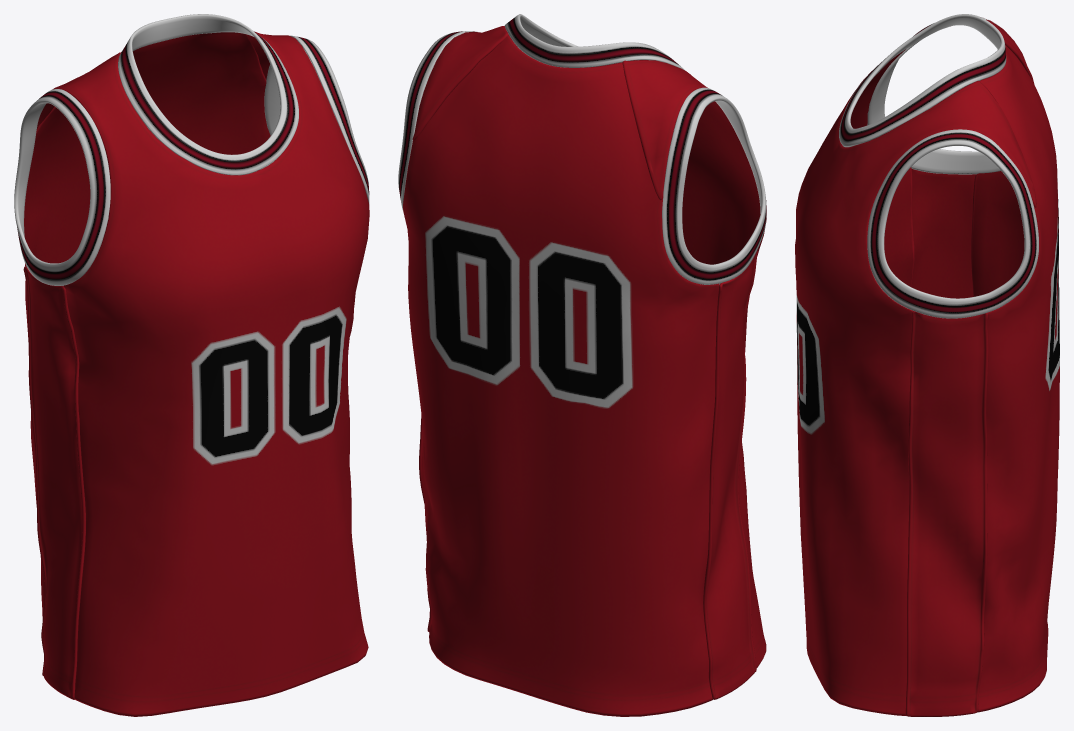
The model's file is Basketball_Jersey.glb.
3 renders of one model, left to right at view 1: azimuth 30°, elevation 25°; view 2: azimuth 150°, elevation 25°; view 3: azimuth 270°, elevation 25°, orthographic. The views are drawn at different scales.
Parts seen in each view (by area): view 1: BasketballJersey_Front_low02, BasketballJersey_Back_low02, BasketballJersey_RightInsert_low02, BasketballJersey_CenterCuff_low02, BasketballJersey_RightCuff_low02, BasketballJersey_LeftCuff_low02; view 2: BasketballJersey_Back_low02, BasketballJersey_Front_low02, BasketballJersey_RightInsert_low02, BasketballJersey_RightCuff_low02, BasketballJersey_CenterCuff_low02, BasketballJersey_LeftCuff_low02; view 3: BasketballJersey_Front_low02, BasketballJersey_Back_low02, BasketballJersey_LeftInsert_low02, BasketballJersey_LeftCuff_low02, BasketballJersey_RightInsert_low02, BasketballJersey_CenterCuff_low02, BasketballJersey_RightCuff_low02.
Part boxes in pixels (x1,y1,x2,y2): BasketballJersey_Front_low02: (36,32,369,716); BasketballJersey_Back_low02: (24,32,270,618); BasketballJersey_RightInsert_low02: (23,266,85,699); BasketballJersey_CenterCuff_low02: (118,14,298,175); BasketballJersey_RightCuff_low02: (14,89,110,285); BasketballJersey_LeftCuff_low02: (264,35,369,203); BasketballJersey_Back_low02: (403,35,719,716); BasketballJersey_Front_low02: (412,26,766,667); BasketballJersey_RightInsert_low02: (703,251,757,699); BasketballJersey_RightCuff_low02: (662,87,766,284); BasketballJersey_CenterCuff_low02: (504,14,684,70); BasketballJersey_LeftCuff_low02: (398,31,478,210); BasketballJersey_Front_low02: (795,19,1036,715); BasketballJersey_Back_low02: (970,45,1059,712); BasketballJersey_LeftInsert_low02: (905,311,988,716); BasketballJersey_LeftCuff_low02: (867,129,1038,318); BasketballJersey_RightInsert_low02: (911,169,975,298); BasketballJersey_CenterCuff_low02: (839,14,1006,147); BasketballJersey_RightCuff_low02: (867,17,1025,174).
Bounding box in the file's own units: 0.5116 × 0.9819 × 0.3823.
1 material, 1 textured.
